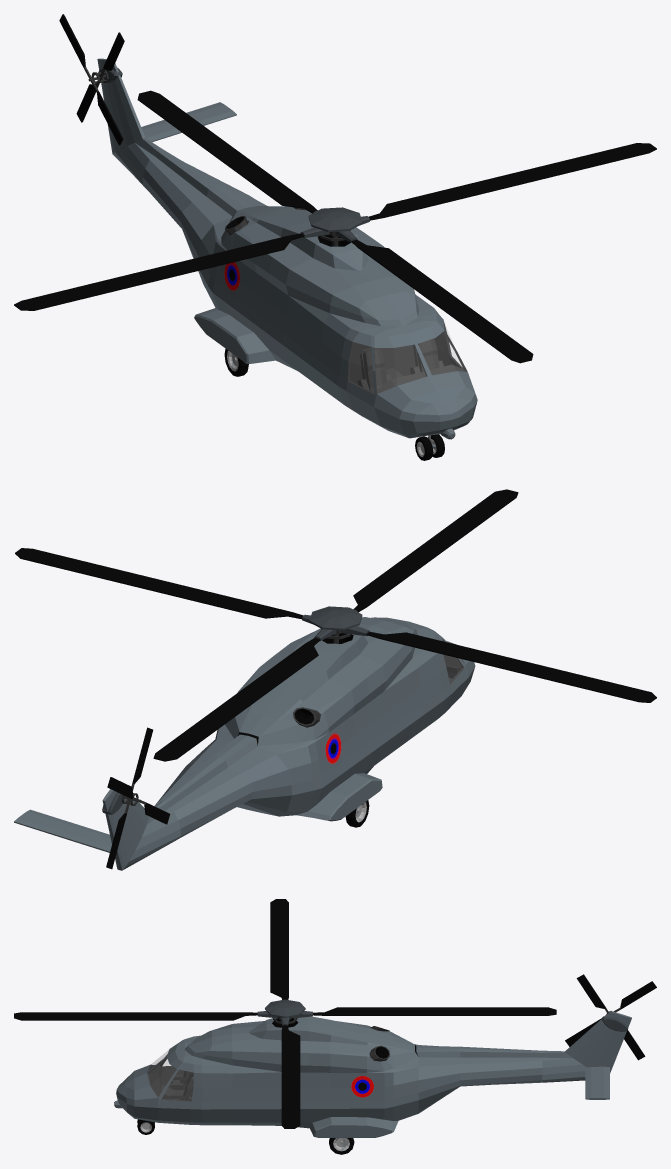
The picture shows the model from 3 angles, top to bottom: view 1: azimuth 30°, elevation 25°; view 2: azimuth 150°, elevation 25°; view 3: azimuth 270°, elevation 25°; orthographic projection. The views are drawn at different scales.
Visible parts, largest first — view 1: Circle, Circle.008, Circle.003, Circle.009, Landing gear_F; view 2: Circle, Circle.008, Circle.009; view 3: Circle, Circle.008, Circle.003, Circle.009.
Part boxes in pixels (bbox=[...]): Circle: bbox=[97, 58, 477, 439]; Circle.008: bbox=[14, 90, 656, 363]; Circle.003: bbox=[348, 322, 466, 393]; Circle.009: bbox=[59, 14, 124, 145]; Landing gear_F: bbox=[415, 434, 444, 460]; Circle: bbox=[14, 617, 475, 870]; Circle.008: bbox=[15, 489, 656, 761]; Circle.009: bbox=[106, 727, 170, 869]; Circle: bbox=[114, 1011, 631, 1137]; Circle.008: bbox=[14, 899, 556, 1128]; Circle.003: bbox=[148, 1050, 193, 1101]; Circle.009: bbox=[565, 974, 656, 1060].
Bounding box in the file's own units: 2163 × 675 × 2563.
